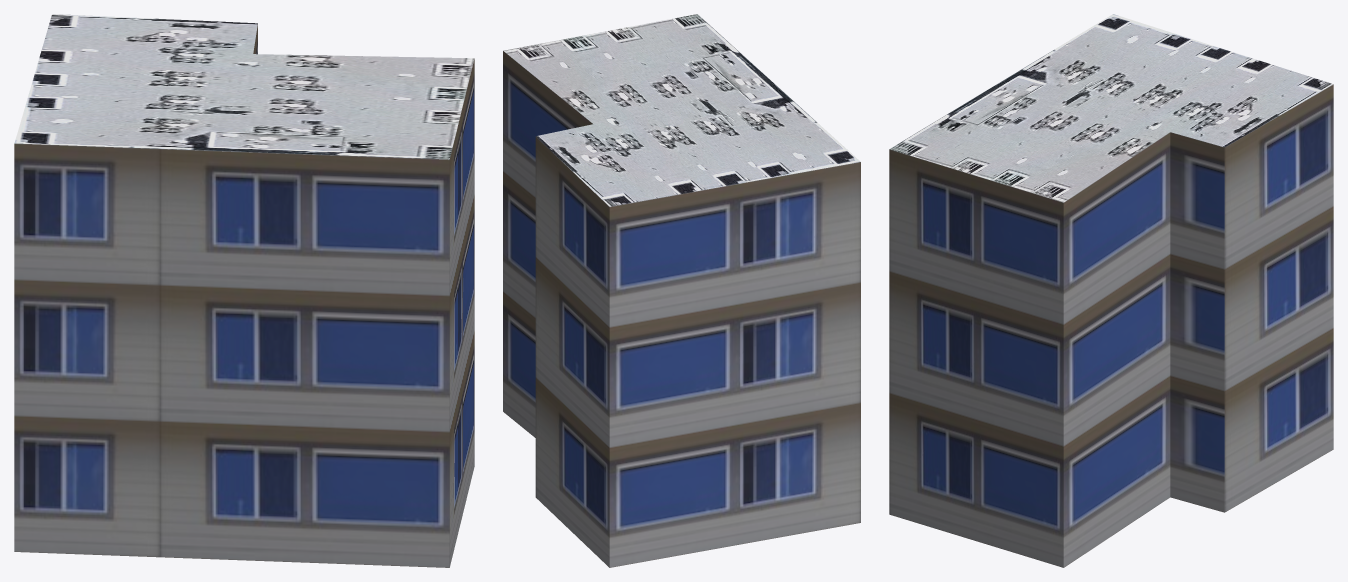
File: ResTex__4982.fbx
3 renders of one model, left to right at view 1: azimuth 30°, elevation 25°; view 2: azimuth 150°, elevation 25°; view 3: azimuth 270°, elevation 25°, orthographic. The views are drawn at different scales.
Visible parts, largest first — view 1: CityEngineMaterial_23_m, CityEngineMaterial_8_m; view 2: CityEngineMaterial_23_m, CityEngineMaterial_8_m; view 3: CityEngineMaterial_23_m, CityEngineMaterial_8_m.
Boxes of the visible parts, left/top/right/bottom form: CityEngineMaterial_23_m: left=14, top=24, right=474, bottom=567; CityEngineMaterial_8_m: left=14, top=14, right=474, bottom=159; CityEngineMaterial_23_m: left=503, top=51, right=860, bottom=567; CityEngineMaterial_8_m: left=503, top=14, right=860, bottom=206; CityEngineMaterial_23_m: left=889, top=84, right=1333, bottom=567; CityEngineMaterial_8_m: left=889, top=14, right=1333, bottom=202.
Size of the model in its own units: 9.97 by 9 by 9.93.
Materials: 2 (2 with a texture image).
